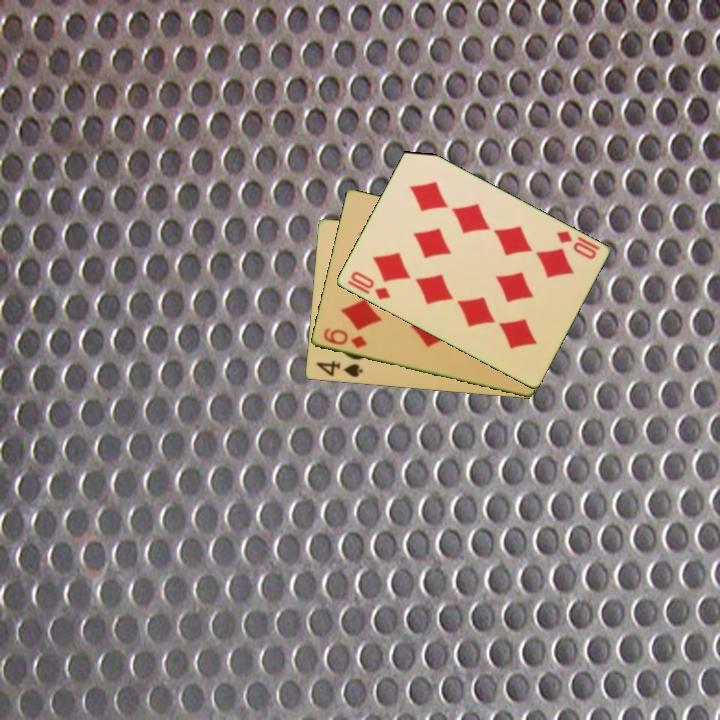10d: (552, 227, 602, 263), (344, 268, 393, 303)
4s: (312, 357, 365, 380)
6d: (320, 325, 370, 352)
